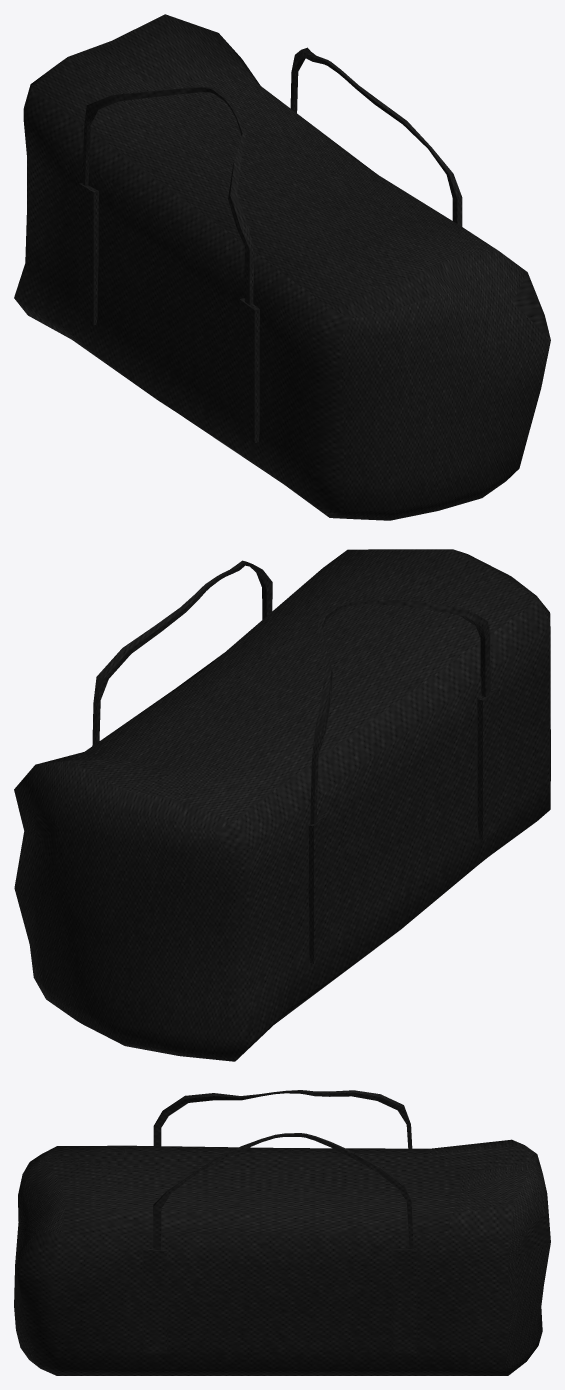
The model's file is DuffleBag.FBX.
3 renders of one model, top to bottom at view 1: azimuth 30°, elevation 25°; view 2: azimuth 150°, elevation 25°; view 3: azimuth 270°, elevation 25°, orthographic. The views are drawn at different scales.
Visible parts, largest first — view 1: DuffleBag; view 2: DuffleBag; view 3: DuffleBag.
Boxes of the visible parts, left/top/right/bottom form: DuffleBag: left=14, top=14, right=550, bottom=520; DuffleBag: left=14, top=549, right=550, bottom=1061; DuffleBag: left=14, top=1090, right=550, bottom=1375.
Size of the model in its own units: 12.32 by 15.7 by 31.12.
